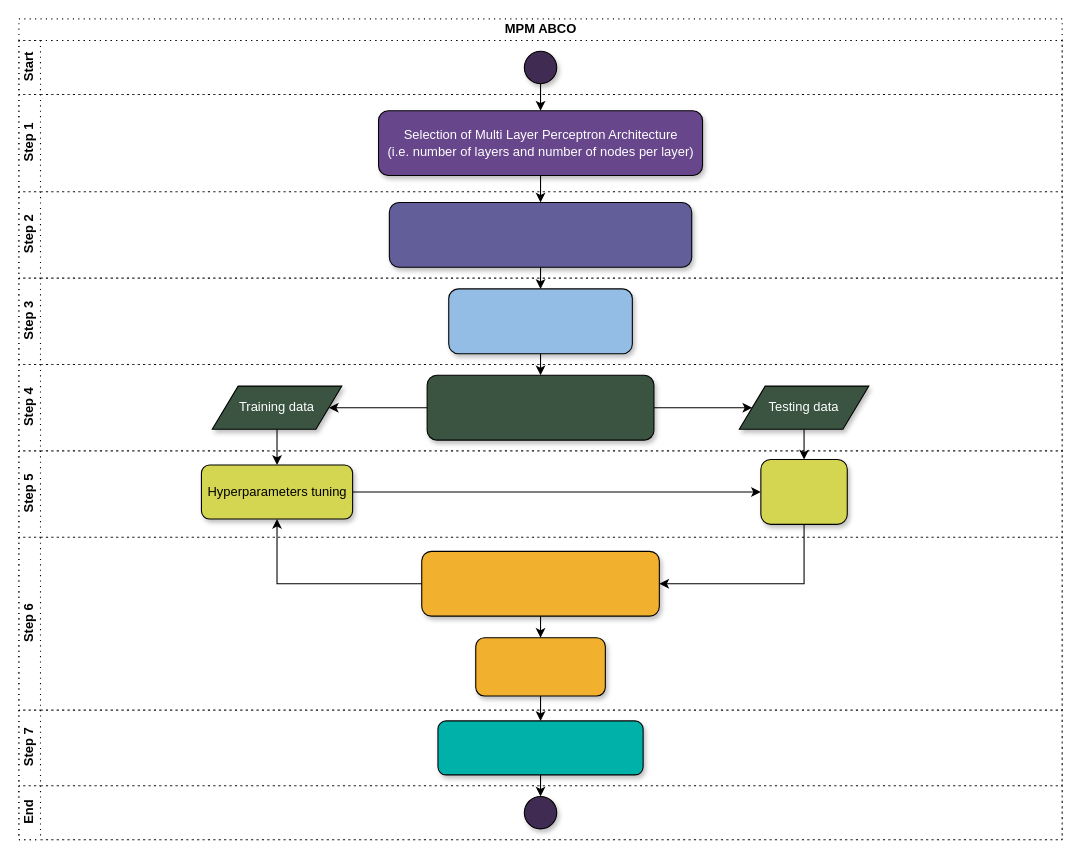
The diagram is 1081 pixels wide and 859 high, and some of its shapes have lost their labels. The centre of each missing label's shape, as x and y in pixels:
Data splitting into Training & Testing datasets: (x=541, y=409)
Feature Scaling of (clean & pre-processed) data: (x=541, y=322)
HC f1 score evaluation: (x=804, y=493)
Optimization of initial learning rate with automated learning rate finder: (x=541, y=236)
Repeat for multiple iterations & epochs. Scan for the highest HC f1 score: (x=541, y=585)
Run inferencing on whole dataset: (x=541, y=749)
Save Machine Learning model: (x=541, y=668)
